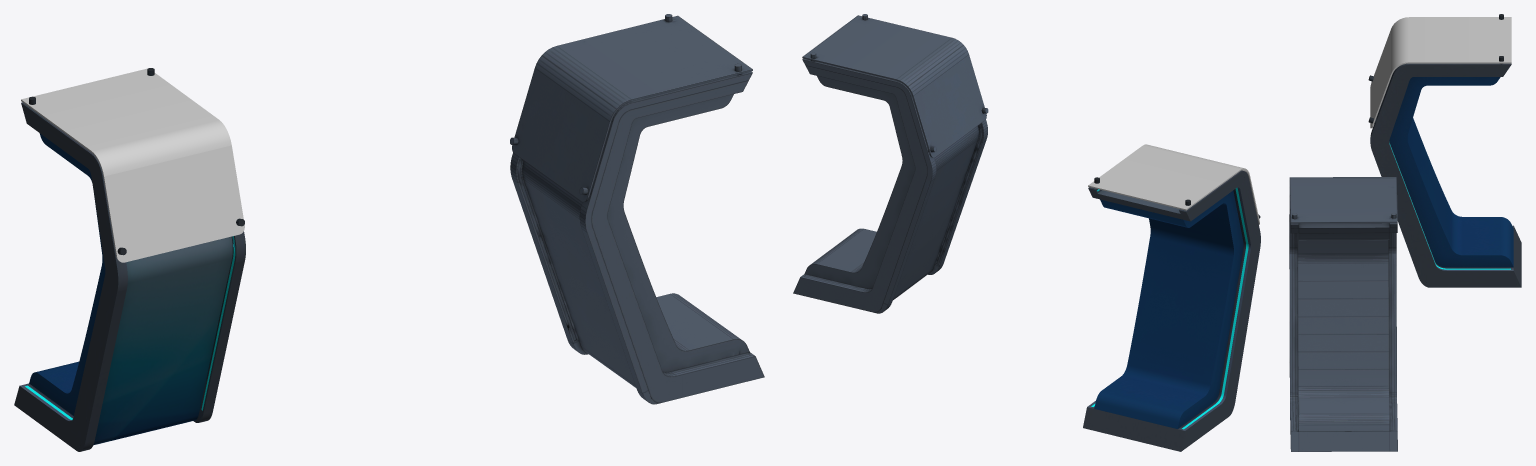
Rendered from Standing Display 001.fbx.
3 renders of one model, left to right at view 1: azimuth 30°, elevation 25°; view 2: azimuth 150°, elevation 25°; view 3: azimuth 270°, elevation 25°, orthographic. The views are drawn at different scales.
Parts seen in each view (by area): view 1: Line053, transparent_acrylic, digital_printing, Line051, Line047, blue_part; view 2: Line053, blue_part, transparent_acrylic, Line047, Line051, white_texture, illumninate_part; view 3: Line053, blue_part, transparent_acrylic, Line047, Line051, white_texture, illumninate_part.
Part boxes in pixels (bbox=[...]): Line053: bbox=[510, 14, 764, 404]; transparent_acrylic: bbox=[21, 68, 244, 262]; digital_printing: bbox=[93, 236, 232, 445]; Line051: bbox=[14, 126, 245, 449]; Line047: bbox=[21, 102, 127, 451]; blue_part: bbox=[29, 133, 105, 415]; Line053: bbox=[793, 14, 988, 313]; blue_part: bbox=[1094, 190, 1243, 428]; transparent_acrylic: bbox=[1088, 144, 1259, 224]; Line047: bbox=[1083, 170, 1260, 451]; Line051: bbox=[1088, 176, 1257, 451]; white_texture: bbox=[1087, 187, 1250, 430]; illumninate_part: bbox=[1091, 187, 1248, 429]; Line053: bbox=[1289, 177, 1397, 451]; blue_part: bbox=[1389, 77, 1513, 267]; transparent_acrylic: bbox=[1370, 17, 1511, 128]; Line047: bbox=[1375, 69, 1521, 287]; Line051: bbox=[1370, 63, 1513, 287]; white_texture: bbox=[1389, 141, 1513, 270]; illumninate_part: bbox=[1389, 143, 1510, 269].
Bounding box in the file's own units: 185 × 94.5 × 86.79.
